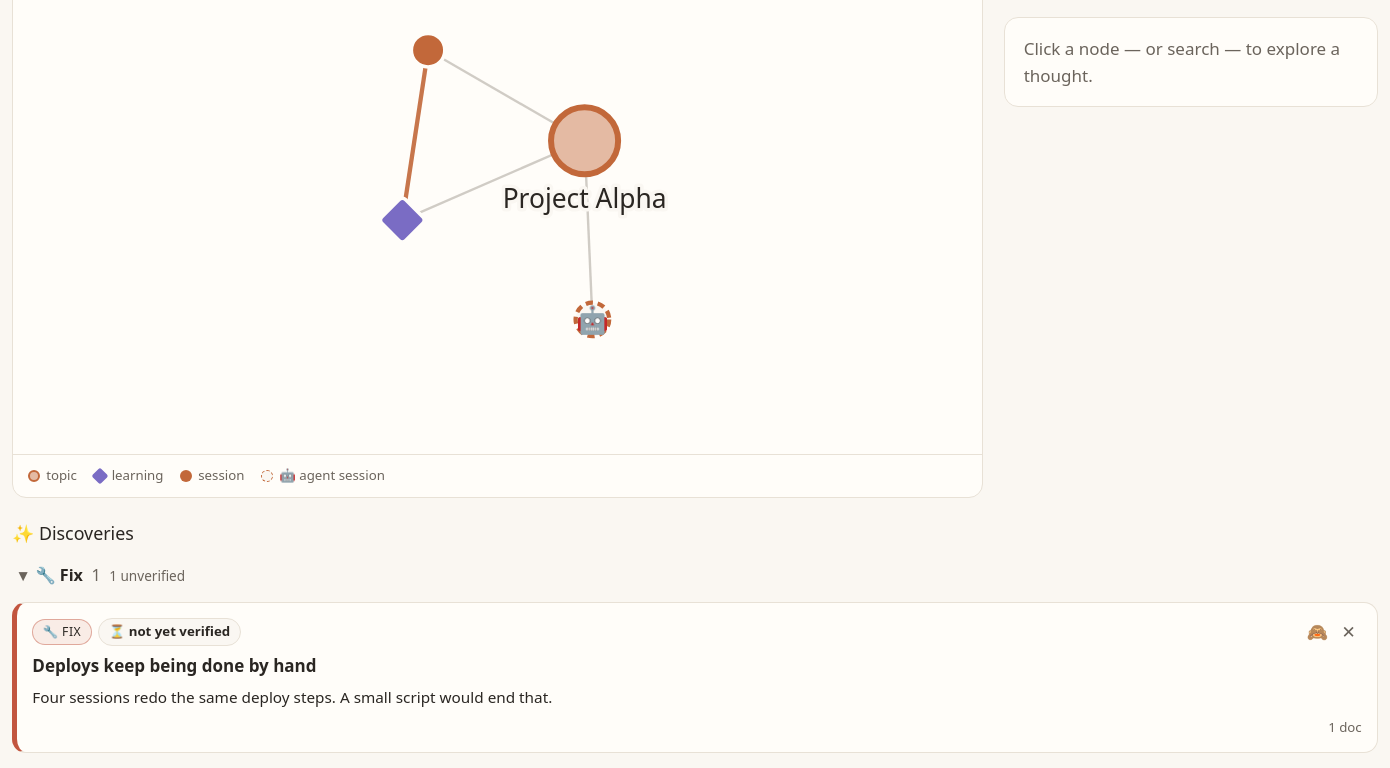
BrainView discoveries › explains a pending verification calmly
(page scrolled)
Click the button "Deploys keep being done by hand" at (174, 665), box top-left (32, 655), bottom-right (1362, 678)
(page scrolled)
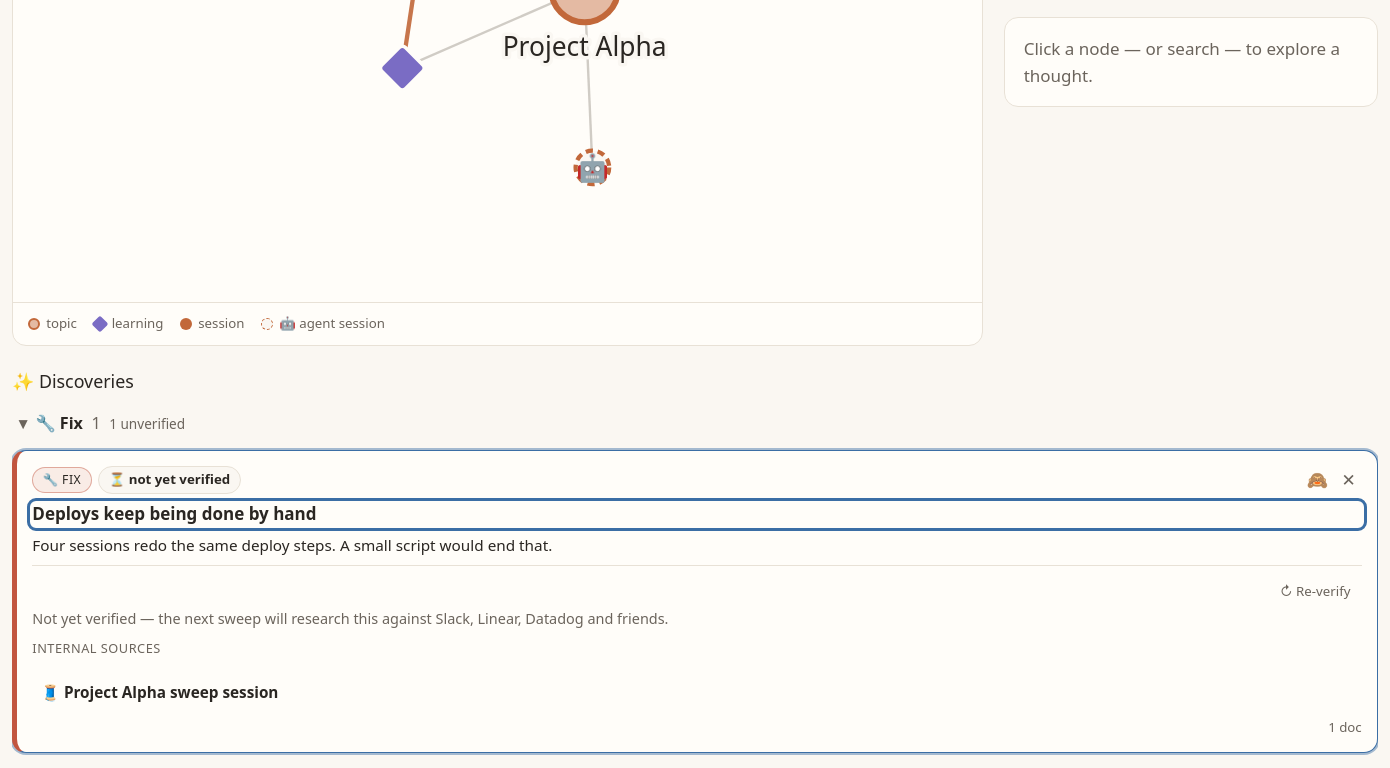
Expected: the text "⏳ not yet verified" is shown, top-left (98, 466), bottom-right (241, 494)
Expected: the text "the next sweep will research this against Slack, Linear, Datadog and friends" is shown, top-left (32, 609), bottom-right (668, 628)
